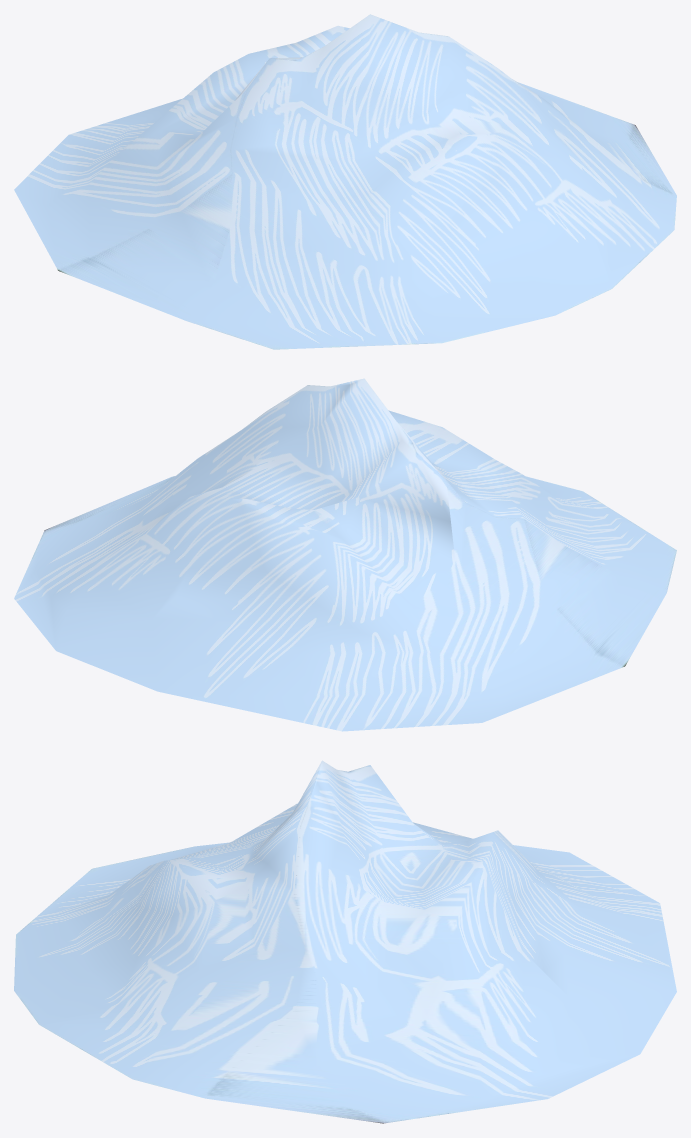
The model's file is mountain_2024.glb.
3 views of the same model, one above another, from view 1: azimuth 30°, elevation 25°; view 2: azimuth 150°, elevation 25°; view 3: azimuth 270°, elevation 25° (orthographic). The views are drawn at different scales.
Parts seen in each view (by area): view 1: Mountain; view 2: Mountain; view 3: Mountain.
Boxes of the visible parts, <box> form: Mountain: <box>14,14,676,349</box>; Mountain: <box>14,378,676,731</box>; Mountain: <box>14,760,676,1123</box>.
Bounding box in the file's own units: 91.27 × 30.68 × 86.16.
1 material, 1 textured.
